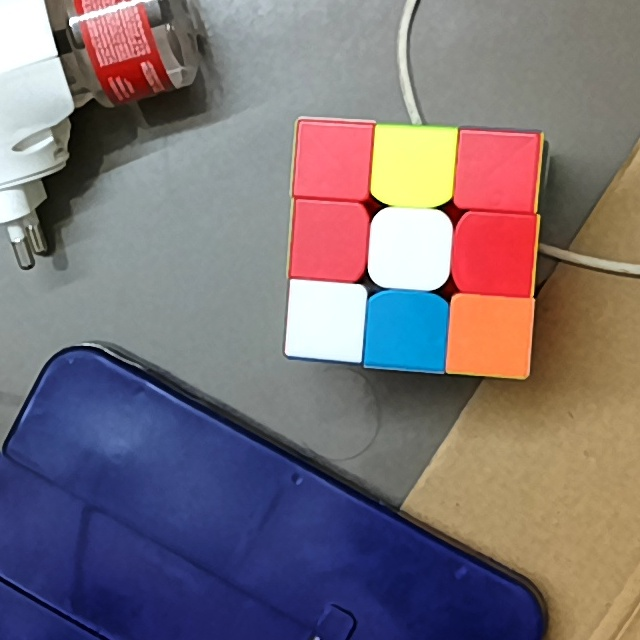tile: (451, 303, 525, 369), (462, 139, 533, 205), (299, 126, 366, 194), (292, 288, 358, 355), (382, 133, 448, 199), (297, 207, 362, 273), (465, 219, 529, 286), (376, 219, 442, 282), (376, 300, 442, 363)
